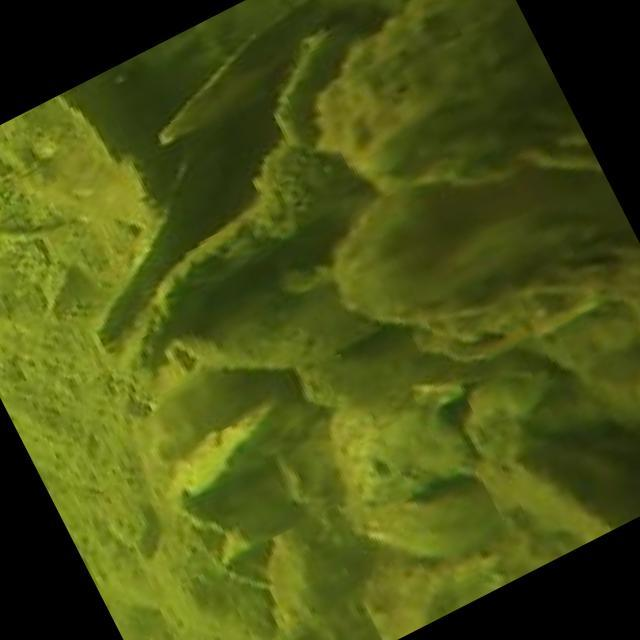Oyster- Indeterminate: (349, 466, 600, 640), (166, 234, 378, 393), (290, 296, 559, 414), (410, 256, 614, 379), (127, 519, 284, 640), (330, 379, 475, 493), (301, 430, 438, 549), (236, 118, 365, 239), (266, 7, 371, 152), (178, 449, 302, 564), (146, 344, 262, 452), (463, 370, 549, 418), (158, 325, 213, 379)
Oyster-Closed: (78, 135, 232, 368), (141, 195, 289, 334), (163, 385, 304, 506), (360, 476, 506, 576), (121, 299, 164, 371)
